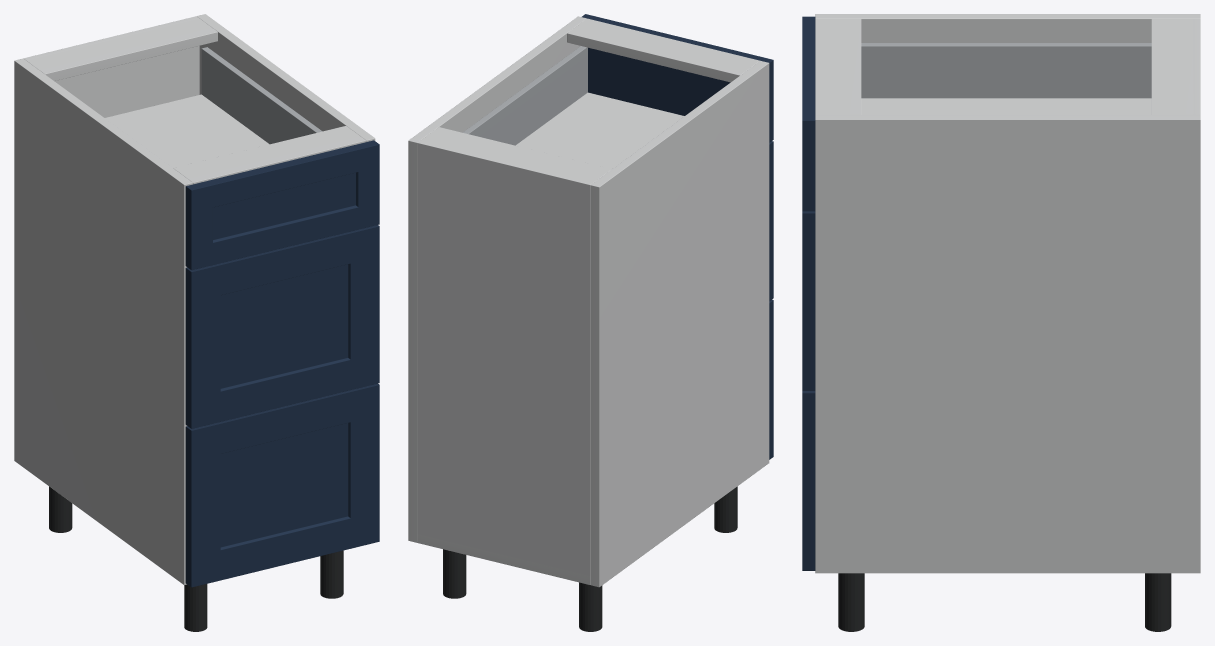
The model's file is oppein-pb-bss-3db15.glb.
3 views of the same model, side by side, from view 1: azimuth 30°, elevation 25°; view 2: azimuth 150°, elevation 25°; view 3: azimuth 270°, elevation 25° (orthographic). The views are drawn at different scales.
Parts seen in each view (by area): view 1: Cabinet side, Drawer front.001, Drawer front, Drawer front.002, Cabinet back, Drawer floor.002, Drawer side.005, Top support rail, Cabinet side.001, Top support rail.001, Adjustable foot.001, Adjustable foot.003 (+1 smaller); view 2: Cabinet side, Cabinet back, Cabinet side.001, Drawer floor.002, Drawer front.002, Drawer side.005, Top support rail.001, Top support rail, Cabinet bottom, Adjustable foot, Adjustable foot.002, Adjustable foot.001 (+2 smaller); view 3: Cabinet side.001, Drawer side.004, Cabinet side, Drawer floor.002, Top support rail.001, Top support rail, Drawer front.002, Drawer front, Drawer front.001, Adjustable foot.002, Adjustable foot.003, Cabinet back.
Part boxes in pixels (box(x1,y1,x2,y2)): Cabinet side: box(14, 58, 192, 585); Drawer front.001: box(185, 225, 379, 428); Drawer front: box(185, 383, 379, 587); Drawer front.002: box(185, 140, 379, 270); Cabinet back: box(23, 16, 199, 117); Drawer floor.002: box(105, 94, 269, 167); Drawer side.005: box(201, 47, 322, 144); Top support rail: box(26, 18, 217, 80); Cabinet side.001: box(197, 14, 375, 141); Top support rail.001: box(173, 126, 366, 184); Adjustable foot.001: box(184, 584, 207, 631); Adjustable foot.003: box(320, 550, 343, 598); Cabinet side: box(590, 61, 769, 587); Cabinet back: box(417, 140, 593, 584); Cabinet side.001: box(408, 16, 586, 542); Drawer floor.002: box(516, 92, 684, 168); Drawer front.002: box(582, 14, 773, 142); Drawer side.005: box(463, 46, 587, 145); Top support rail.001: box(567, 18, 759, 82); Top support rail: box(421, 127, 611, 183); Cabinet bottom: box(417, 534, 590, 584); Adjustable foot: box(579, 582, 602, 631); Adjustable foot.002: box(443, 549, 466, 598); Adjustable foot.001: box(714, 486, 737, 532); Cabinet side.001: box(815, 115, 1200, 573); Drawer side.004: box(861, 43, 1151, 98); Cabinet side: box(815, 14, 1200, 42); Drawer floor.002: box(861, 98, 1151, 114); Top support rail.001: box(815, 19, 861, 114); Top support rail: box(1151, 19, 1193, 114); Drawer front.002: box(802, 16, 815, 211); Drawer front: box(802, 391, 815, 570); Drawer front.001: box(802, 211, 815, 390); Adjustable foot.002: box(1145, 573, 1171, 631); Adjustable foot.003: box(838, 573, 864, 631); Cabinet back: box(1193, 19, 1200, 114).
Bounding box in the file's own units: 0.381 × 0.8763 × 0.6064.
